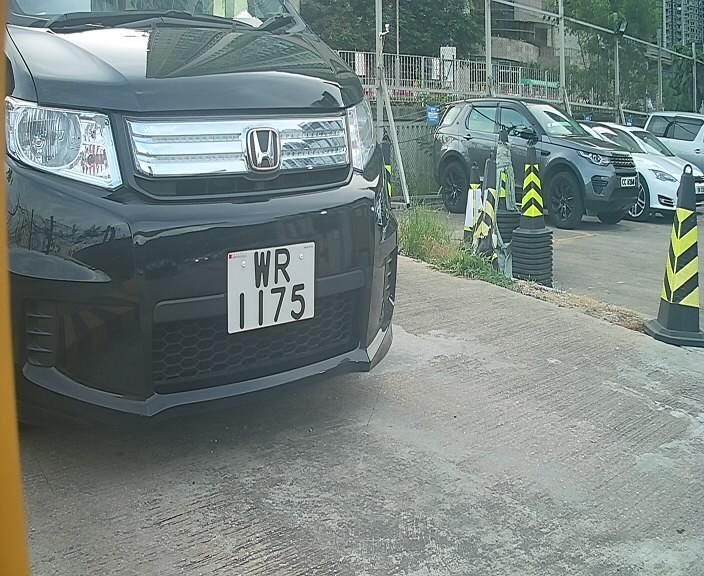privatecar: (1, 1, 425, 435)
